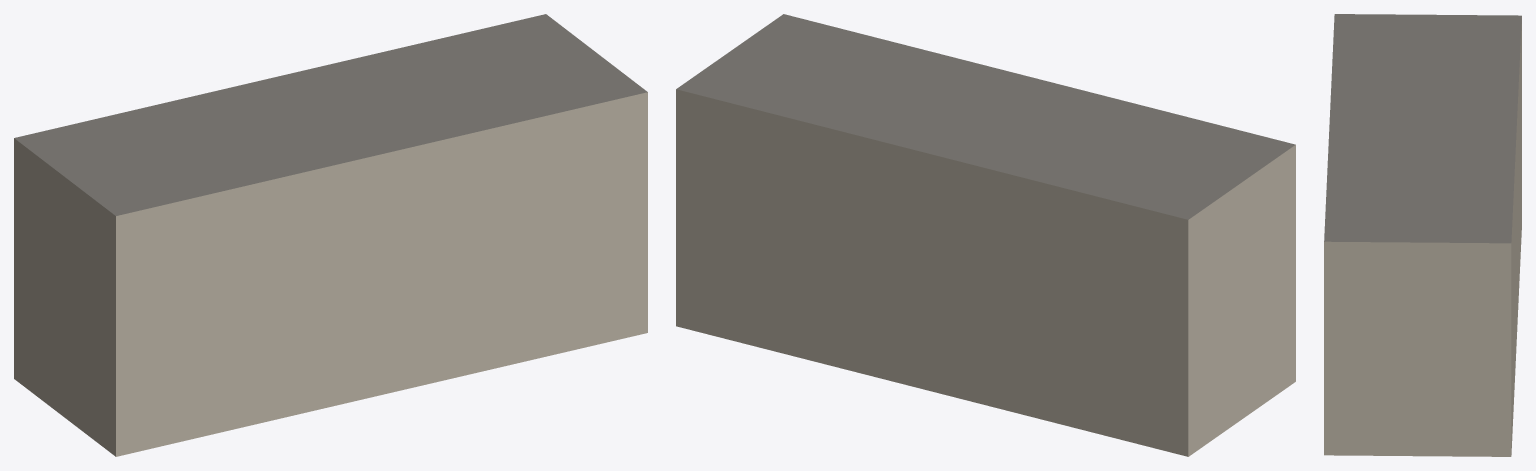
3 views of the same model, side by side, from view 1: azimuth 30°, elevation 25°; view 2: azimuth 150°, elevation 25°; view 3: azimuth 270°, elevation 25° (orthographic). The views are drawn at different scales.
Parts seen in each view (by area): view 1: HP-w987283655; view 2: HP-w987283655; view 3: HP-w987283655.
Part boxes in pixels (left/top/right/bottom): HP-w987283655: left=14, top=14, right=647, bottom=456; HP-w987283655: left=676, top=14, right=1295, bottom=456; HP-w987283655: left=1324, top=14, right=1521, bottom=456.
Bounding box in the file's own units: 41.44 × 18 × 15.1.
